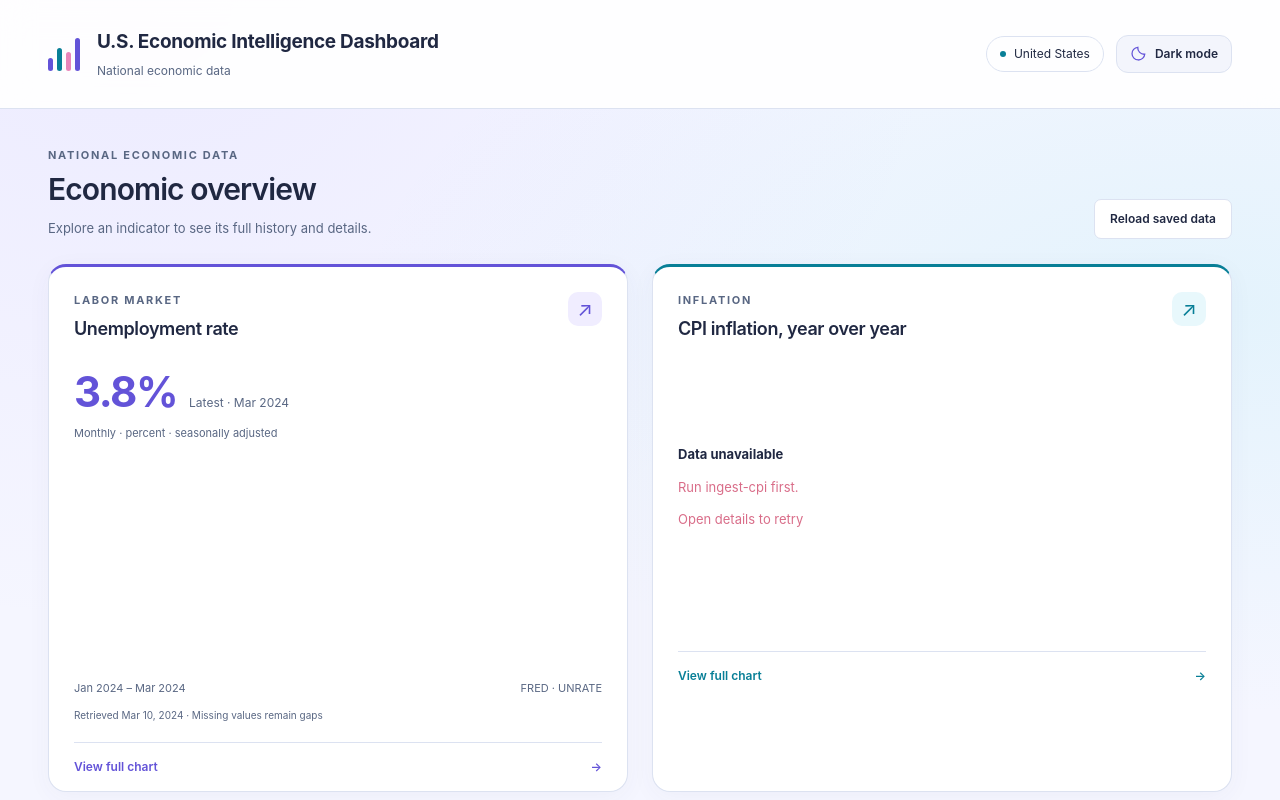
Test: dashboard › keeps a healthy tile usable when the other snapshot is missing
Expected: the message shows "Run ingest-cpi first", x1=678 y1=479 x2=798 y2=495
Expected: the text "3.8%" is shown, x1=74 y1=365 x2=177 y2=420
Step 1. Click the button named "Open Unemployment rate" → [338, 529], box x1=49 y1=266 x2=627 y2=791
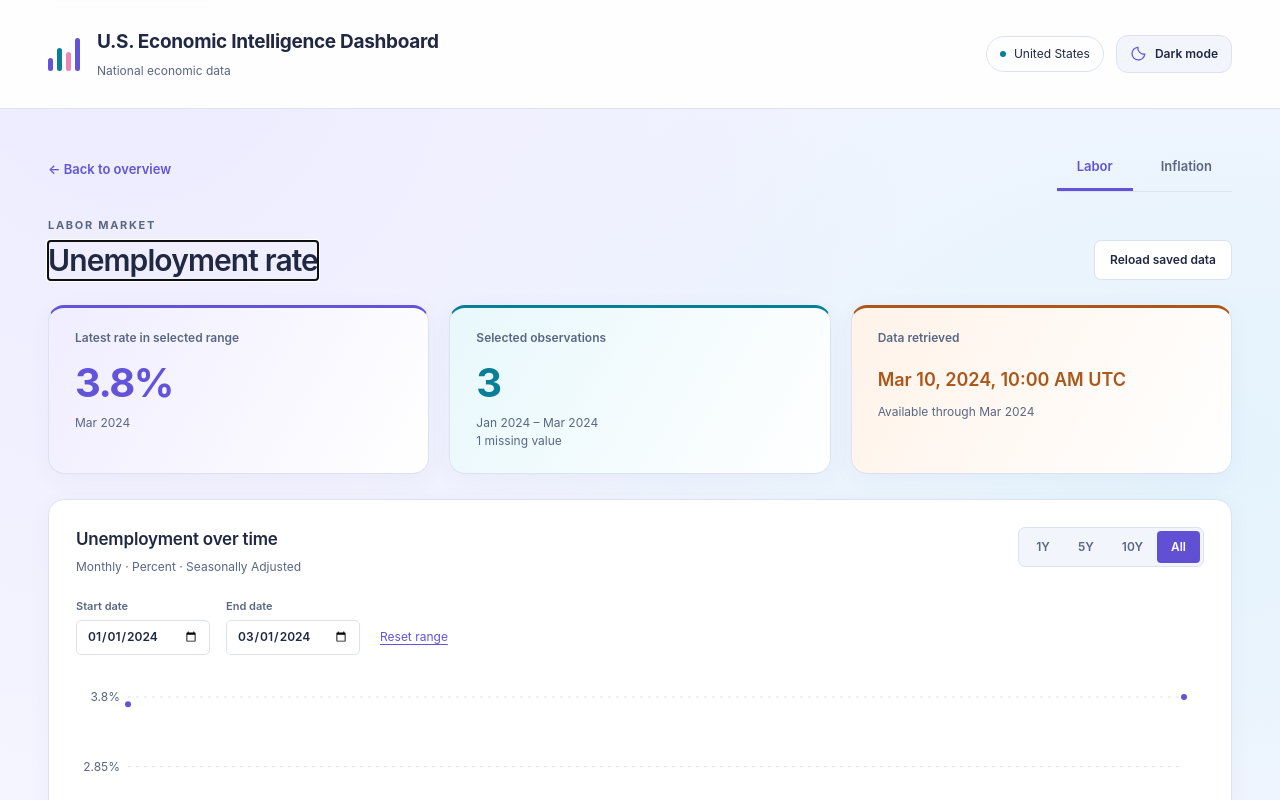
Now the heading "Unemployment over time" is shown, box x1=76 y1=526 x2=301 y2=552
